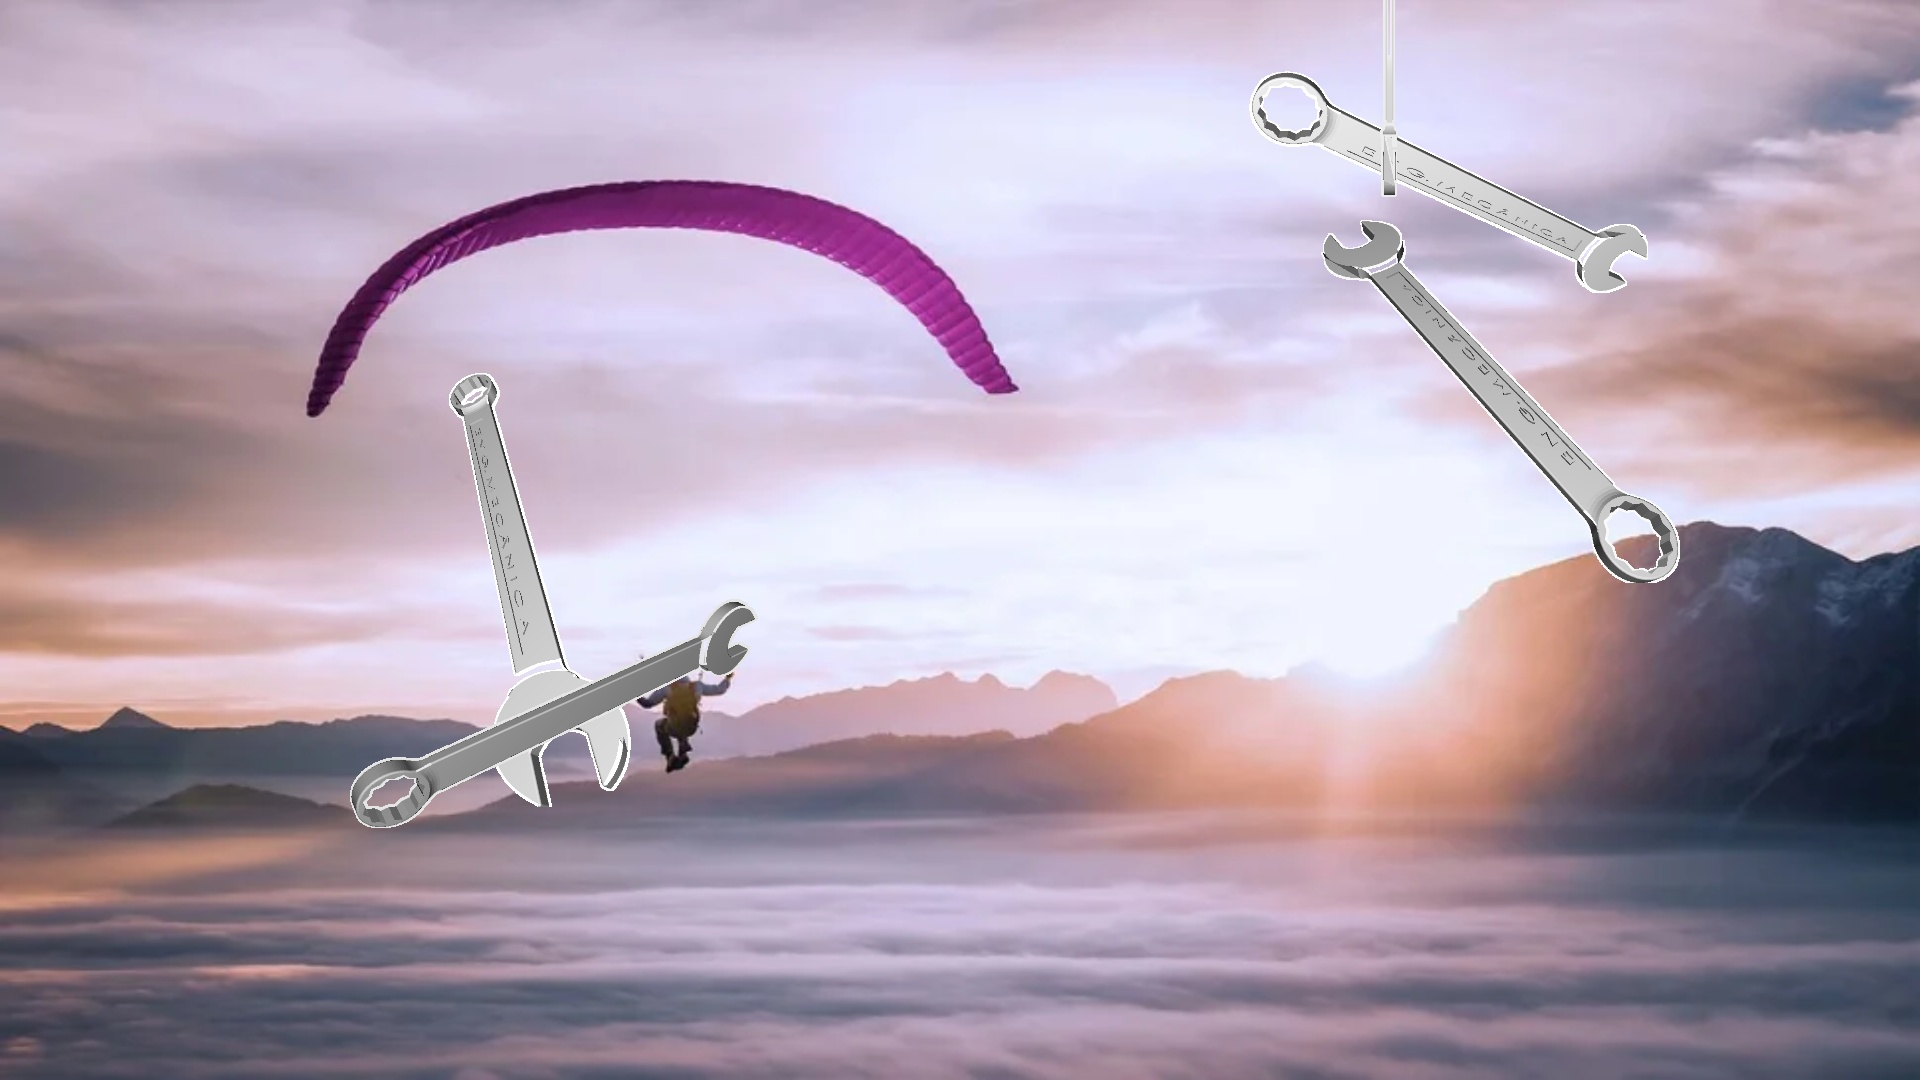Mixed Key: (1321, 220, 1679, 582), (350, 599, 757, 827), (1249, 71, 1647, 292), (449, 373, 630, 806), (1380, 0, 1397, 196)
